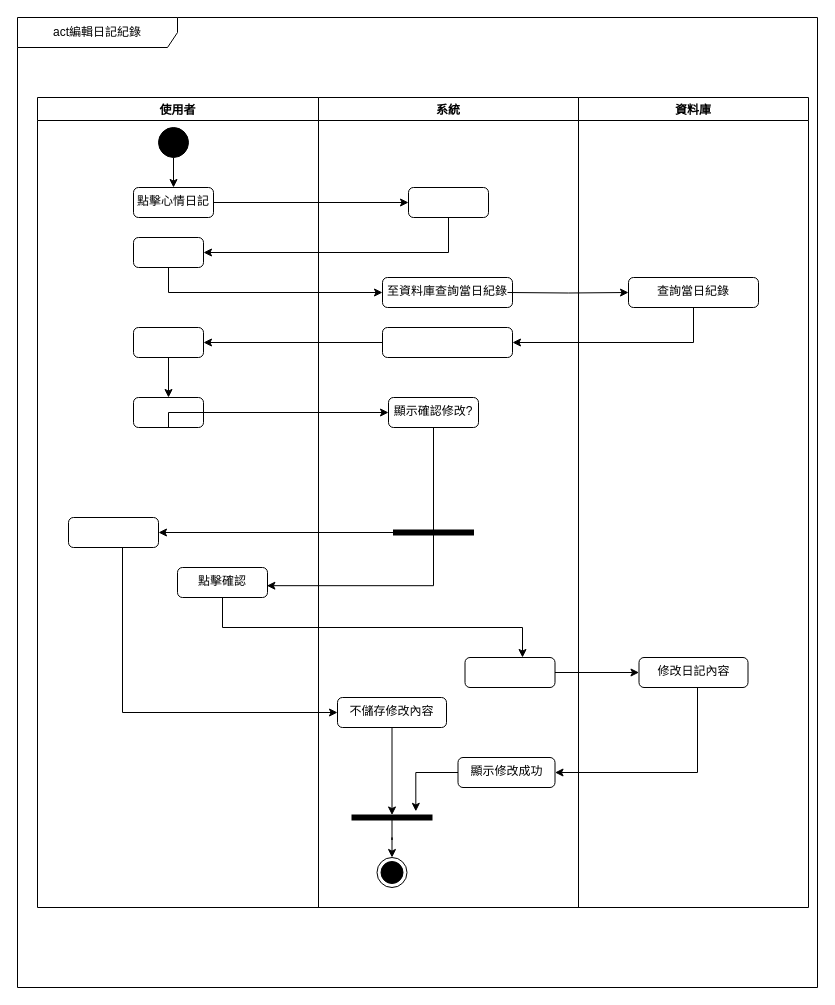
This 835x1005 diagram has some shape labels left out. Each missing label, with the box of its shape:
儲存修改內容: (464, 656, 555, 688)
顯示月曆: (408, 186, 488, 218)
顯示當日紀錄: (382, 326, 512, 358)
點擊儲存: (132, 396, 204, 428)
點擊取消: (68, 516, 158, 548)
點擊日期: (132, 236, 204, 268)
點擊編輯: (132, 326, 204, 358)
